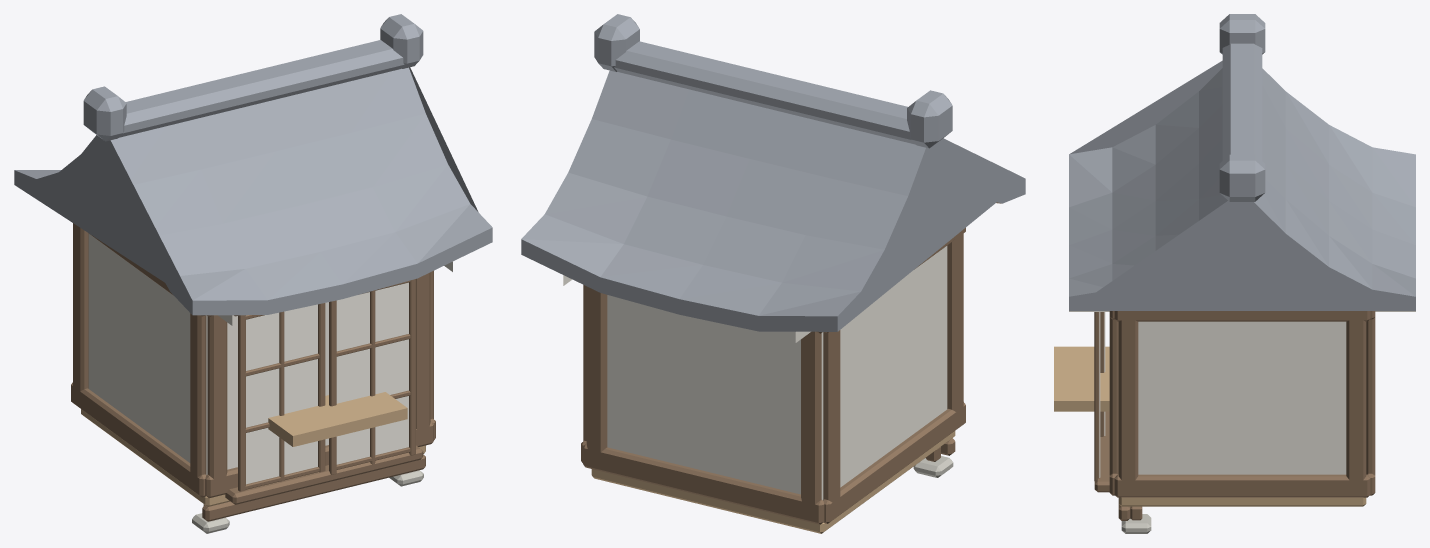
File: ferry-ticket-hut.glb
3 renders of one model, left to right at view 1: azimuth 30°, elevation 25°; view 2: azimuth 150°, elevation 25°; view 3: azimuth 270°, elevation 25°, orthographic. The views are drawn at different scales.
Parts seen in each view (by area): view 1: ferry-ticket-hut; view 2: ferry-ticket-hut; view 3: ferry-ticket-hut.
Boxes of the visible parts, x1=… form: ferry-ticket-hut: x1=14, y1=14, x2=492, y2=533; ferry-ticket-hut: x1=521, y1=14, x2=1025, y2=533; ferry-ticket-hut: x1=1054, y1=14, x2=1415, y2=533.
Size of the model in its own units: 3.7 by 4.41 by 3.65.
